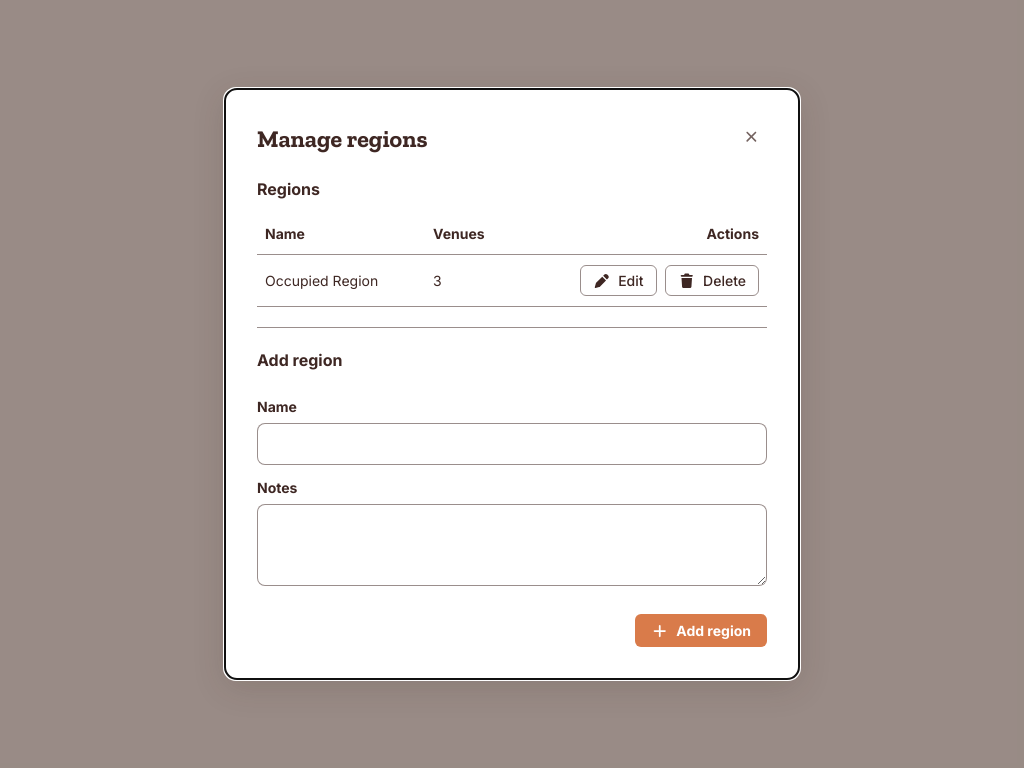
RegionManagementPanel › opens the resolution modal instead of deleting immediately when the region has venues
This screenshot has width=1024, height=768.
Click the button "Delete" at coordinates (712, 280), box [665, 265, 759, 296]
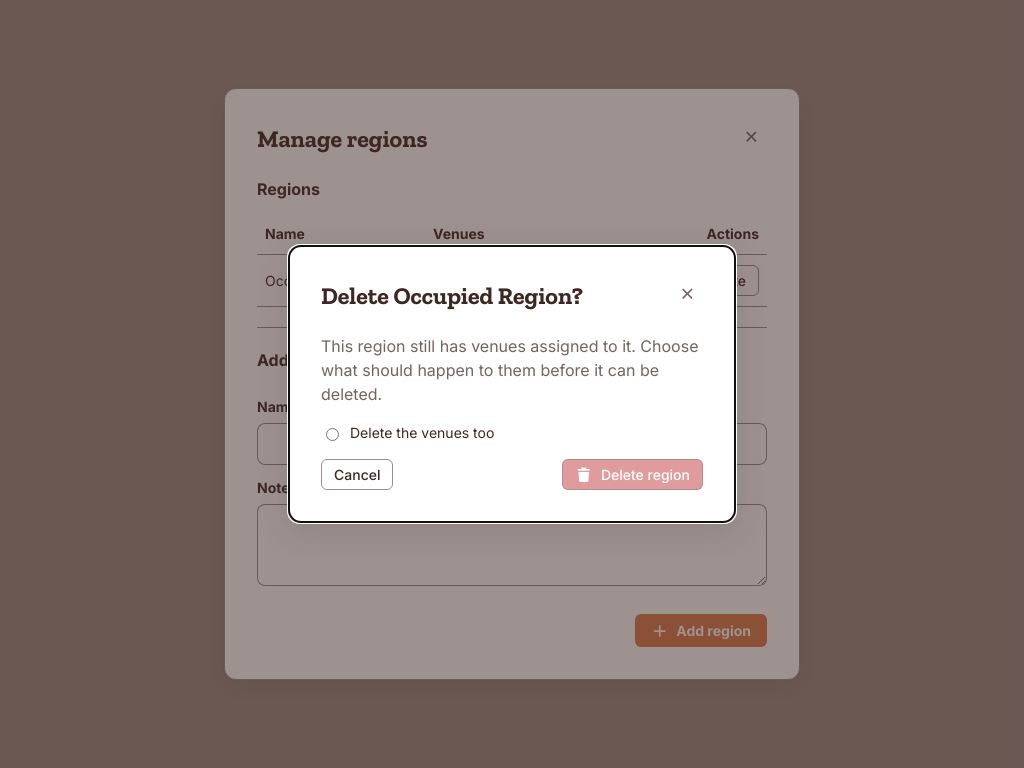
Expected: the dialog with test id "region-delete-resolution-modal" is shown, [288, 245, 736, 523]
